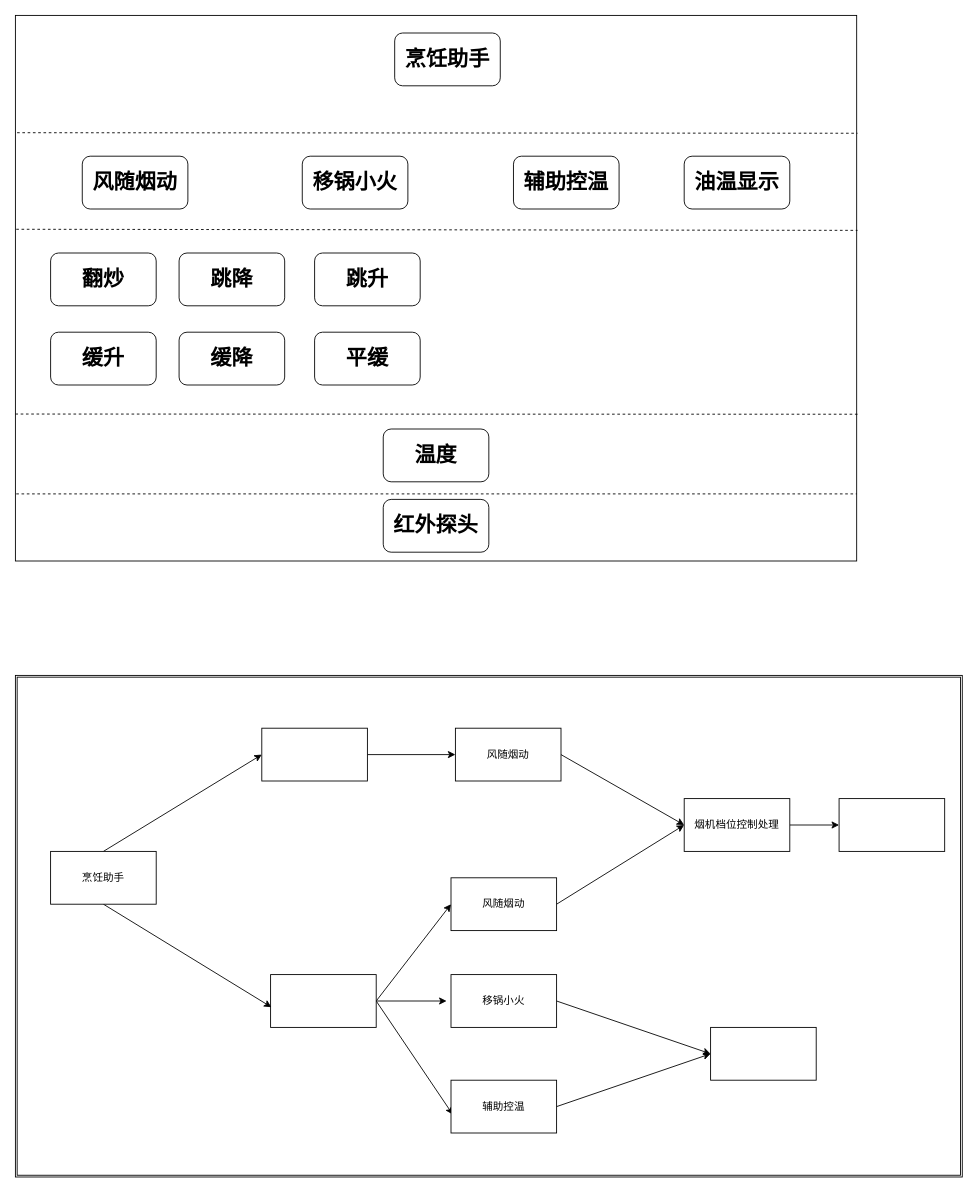
Some shapes in this 978 by 1192 pixel diagram are drawn without their labels. The box of each missing label's shape, as (x1, y1, x2, y2) in pixels:
右灶: (270, 974, 376, 1027)
左灶: (261, 727, 367, 781)
烟机: (838, 798, 945, 851)
通断阀: (710, 1027, 816, 1080)
